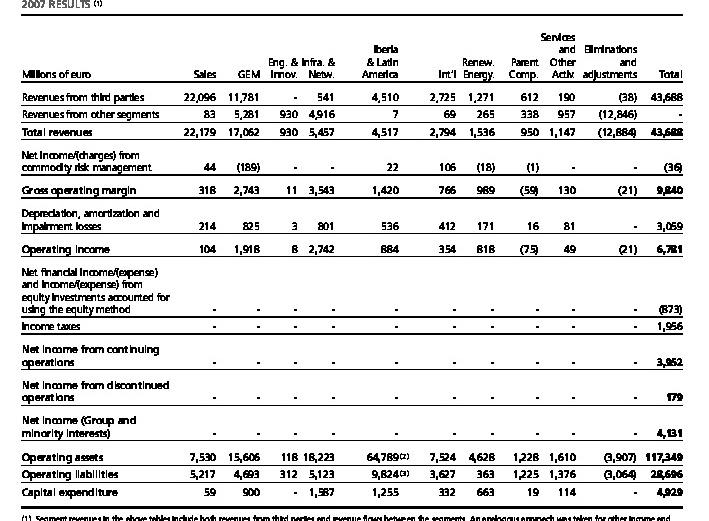table: (0, 0, 709, 521)
